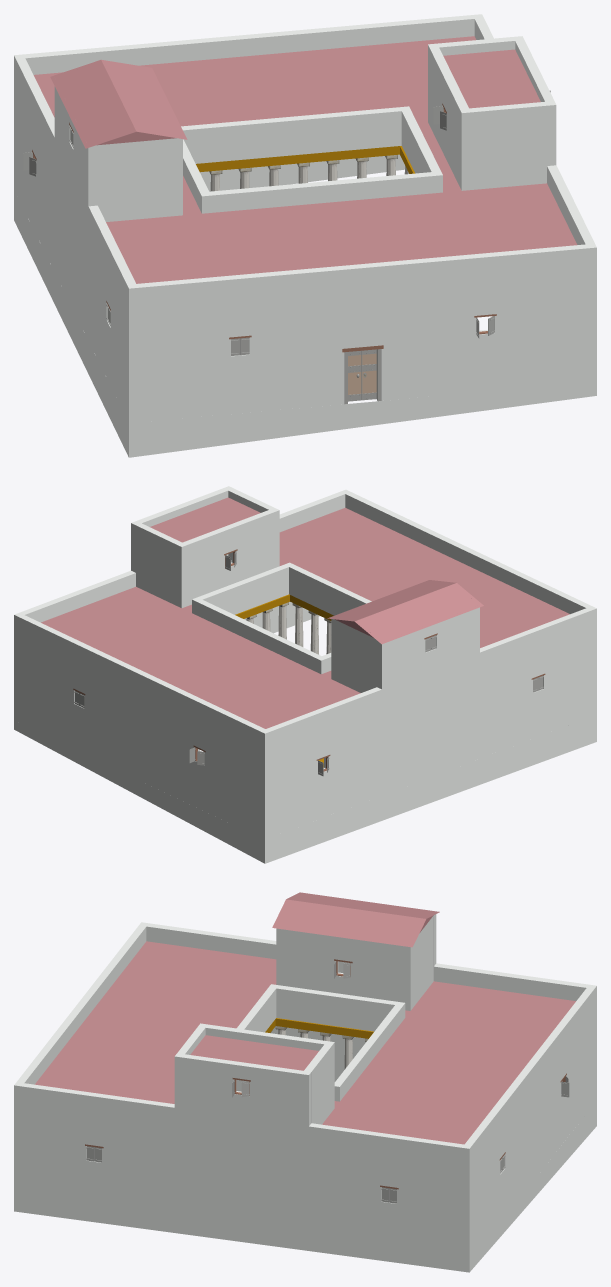
File: LOD_Block_2_3.glb
3 renders of one model, top to bottom at view 1: azimuth 30°, elevation 25°; view 2: azimuth 150°, elevation 25°; view 3: azimuth 270°, elevation 25°, orthographic. The views are drawn at different scales.
Visible parts, largest first — view 1: _1.3100; view 2: _1.3100; view 3: _1.3100.
Part boxes in pixels (x1,y1,x2,y2): _1.3100: [14, 14, 596, 457]; _1.3100: [14, 486, 596, 863]; _1.3100: [14, 892, 596, 1272].
Size of the model in its own units: 32.98 by 13.92 by 35.85.
3 materials, 3 textured.
